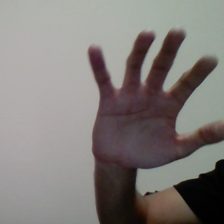left: (79, 23, 224, 169)
